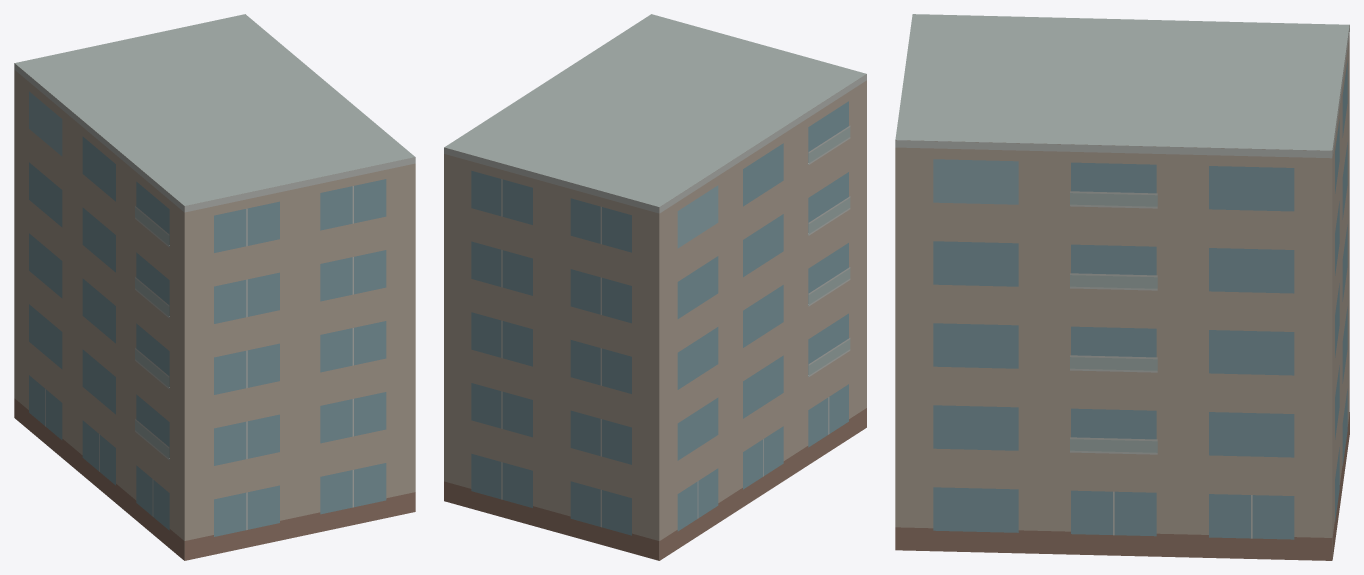
The model's file is survey-upis-32881888.glb.
3 renders of one model, left to right at view 1: azimuth 30°, elevation 25°; view 2: azimuth 150°, elevation 25°; view 3: azimuth 270°, elevation 25°, orthographic. The views are drawn at different scales.
Parts seen in each view (by area): view 1: survey-upis-32881888.tmp; view 2: survey-upis-32881888.tmp; view 3: survey-upis-32881888.tmp.
Boxes of the visible parts, x1,y1,x2,y2 form: survey-upis-32881888.tmp: (14, 14, 415, 560); survey-upis-32881888.tmp: (444, 14, 866, 560); survey-upis-32881888.tmp: (895, 14, 1349, 560).
Bounding box in the file's own units: 9.59 × 13.4 × 13.46.
